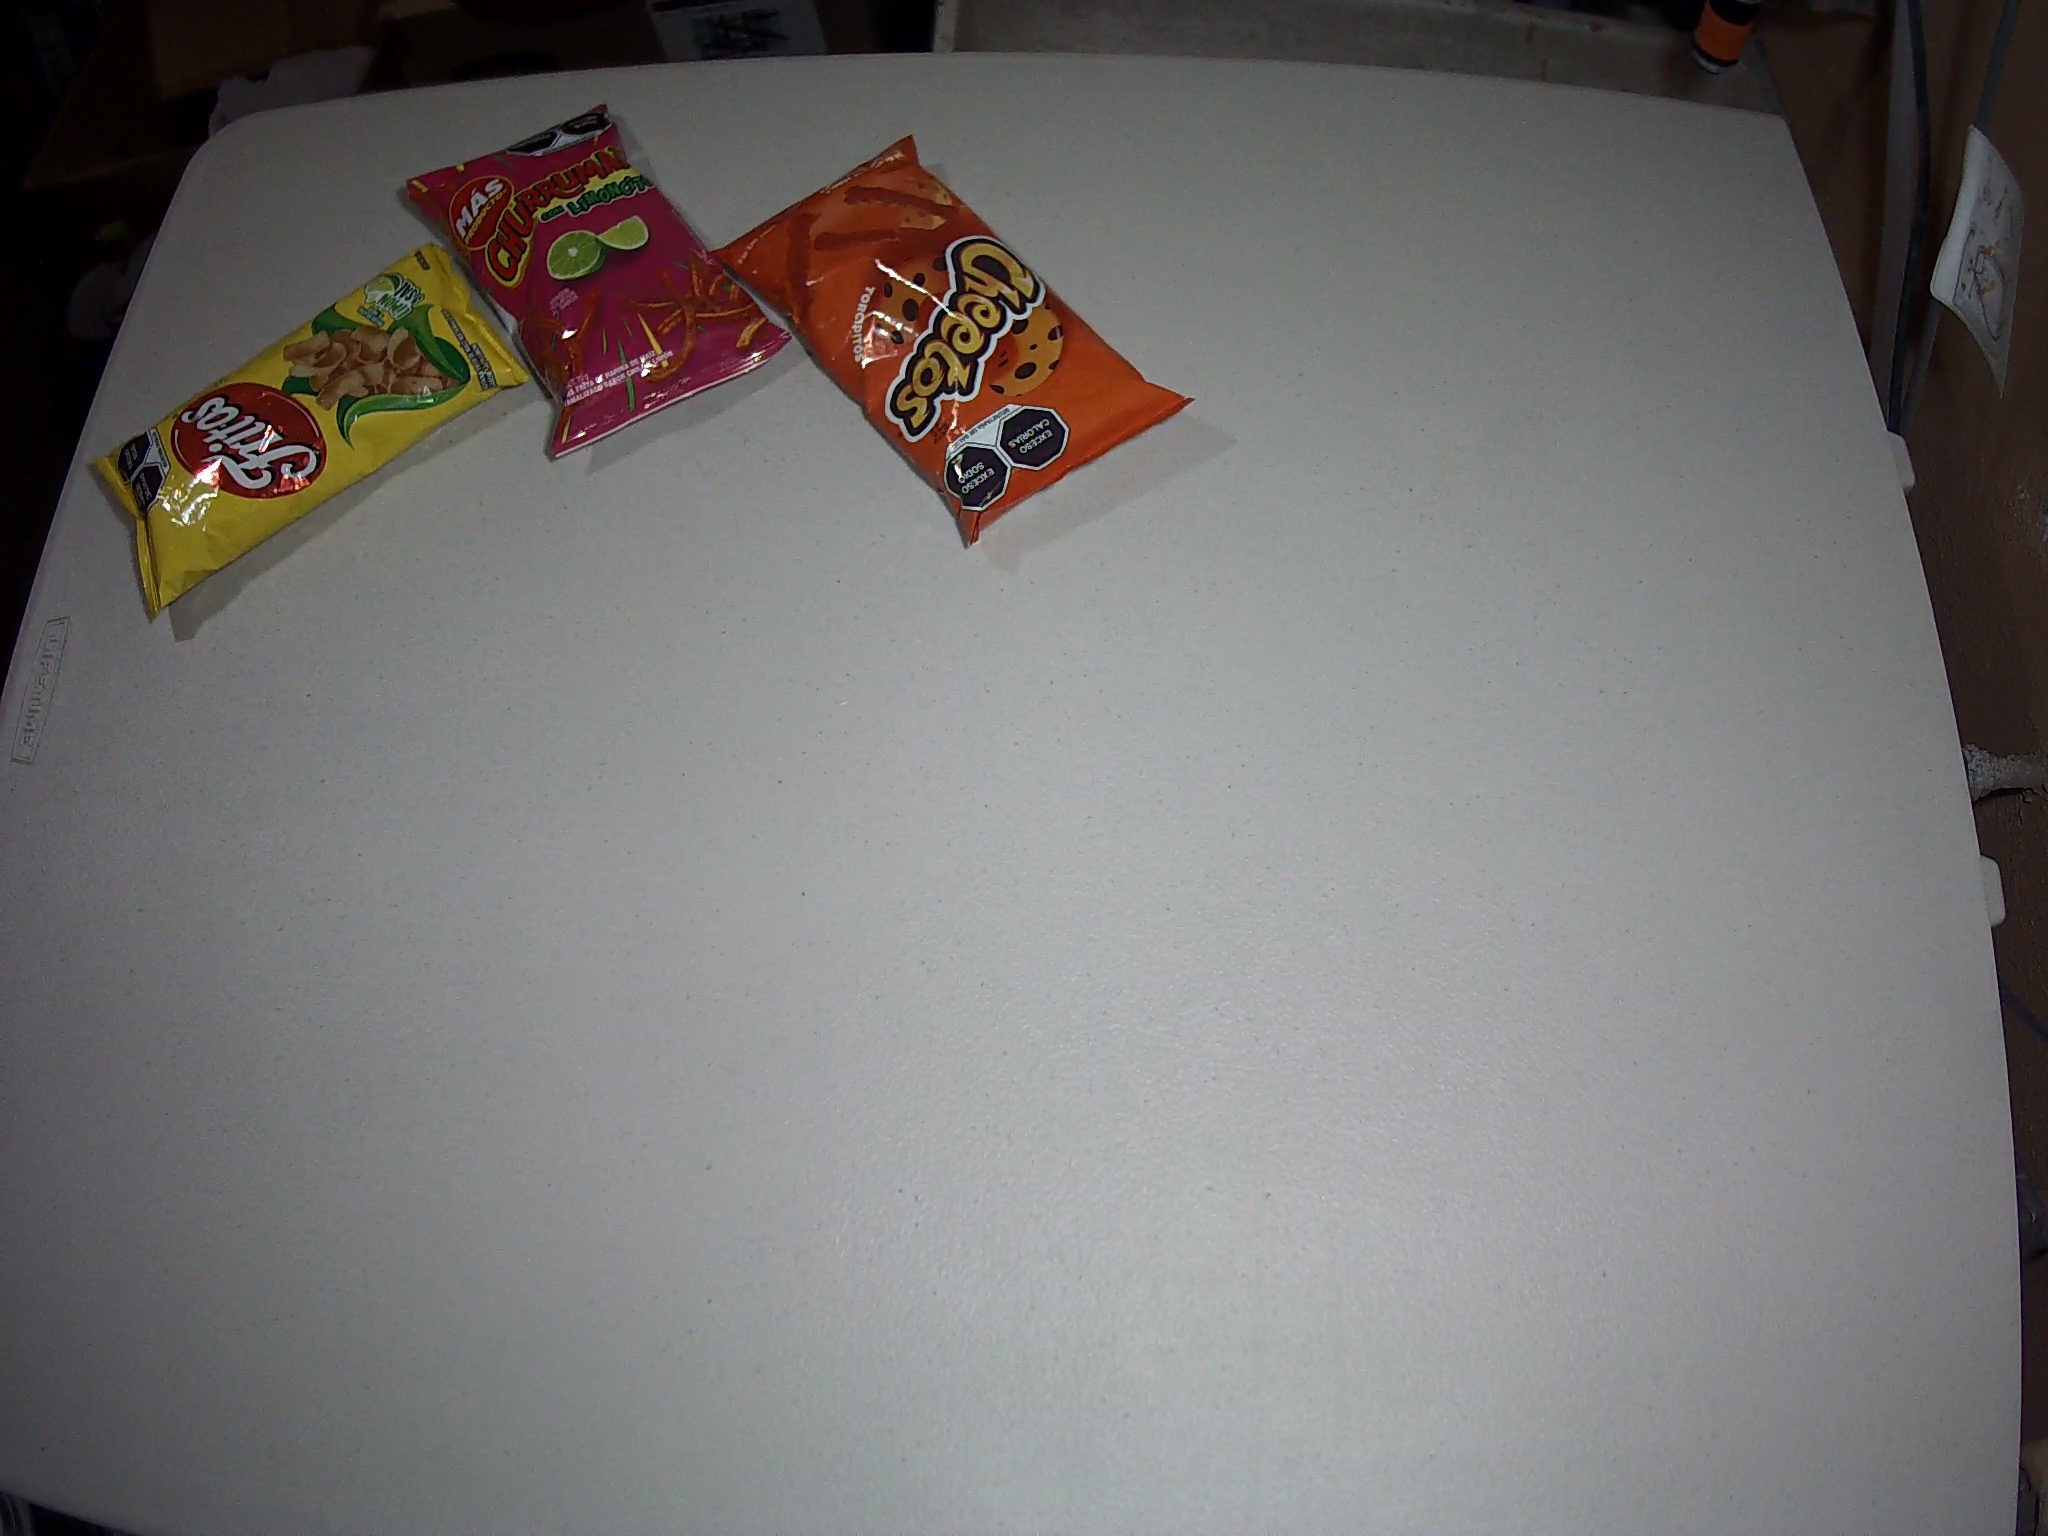CheetosTorciditos_55_F: (705, 132, 1198, 547)
Churrumais_70_F: (400, 103, 797, 465)
FritosSalLimon_65_F: (92, 244, 535, 628)
